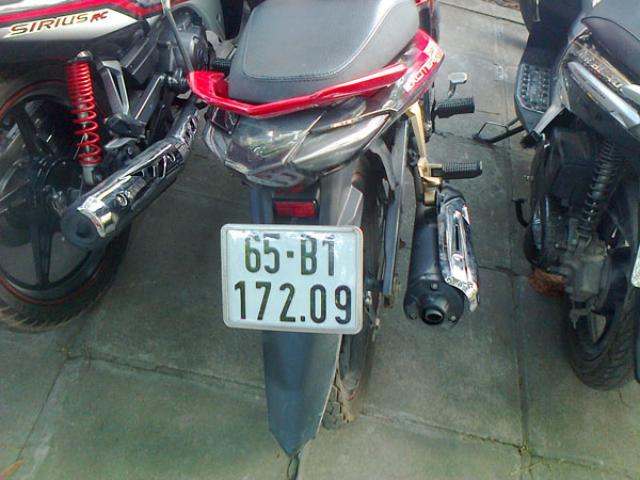plate: (221, 226, 367, 332)
